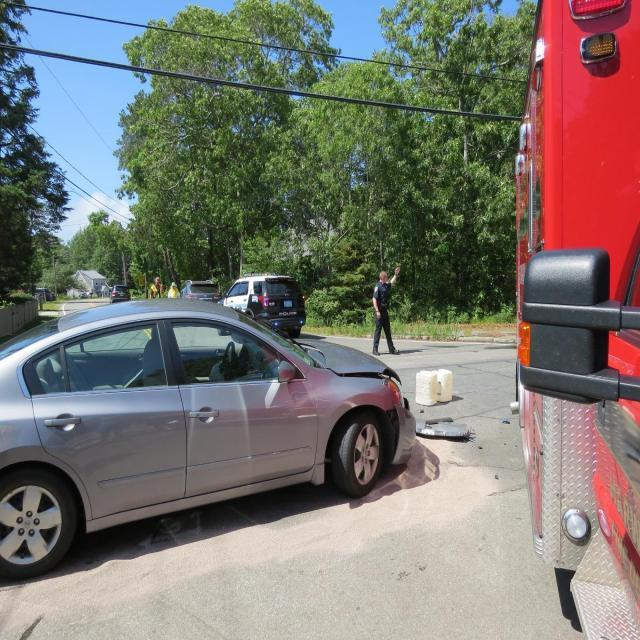damaged: (328, 364, 421, 472)
